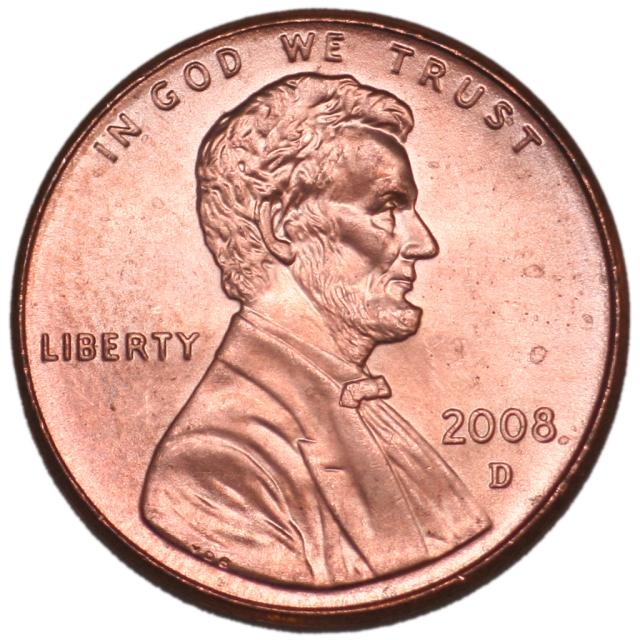Coin: (8, 5, 632, 636)
